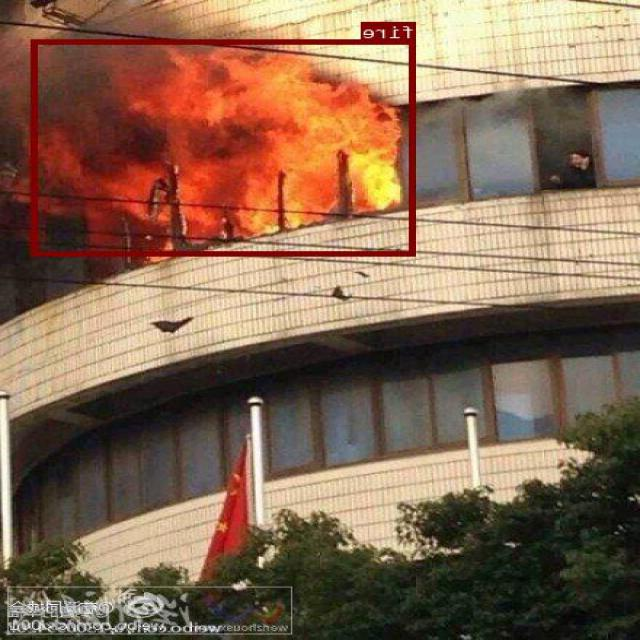fire: (33, 38, 416, 255)
